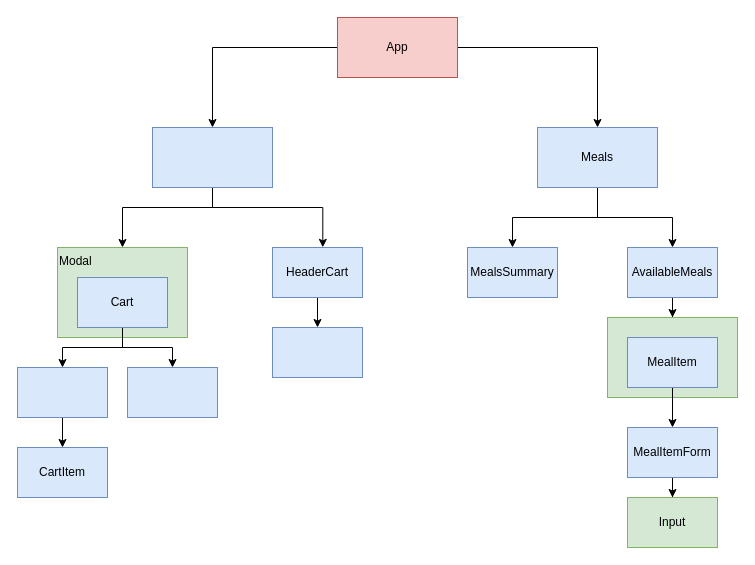
This 755x565 diagram has some shape labels left out. The shapes that lost their labels are listed below. From the top down, each one's box as (x1, y1, x2, y2) in pixels, then its label:
(152, 126, 272, 188): Header
(272, 326, 362, 378): CartIcon
(606, 316, 738, 398): Card
(16, 366, 108, 418): CartList
(126, 366, 218, 418): CartActions
